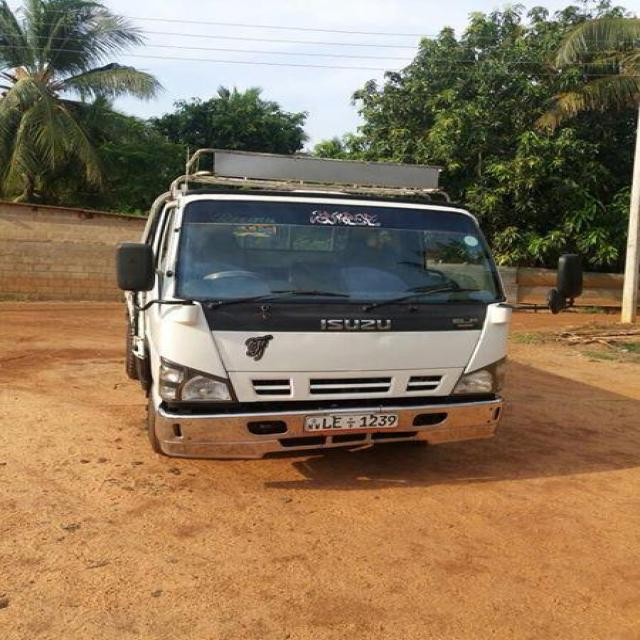license-plate: (304, 414, 396, 427)
